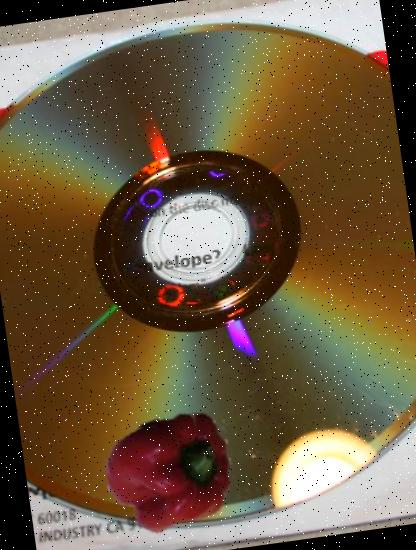Pepper: (98, 400, 244, 546)
